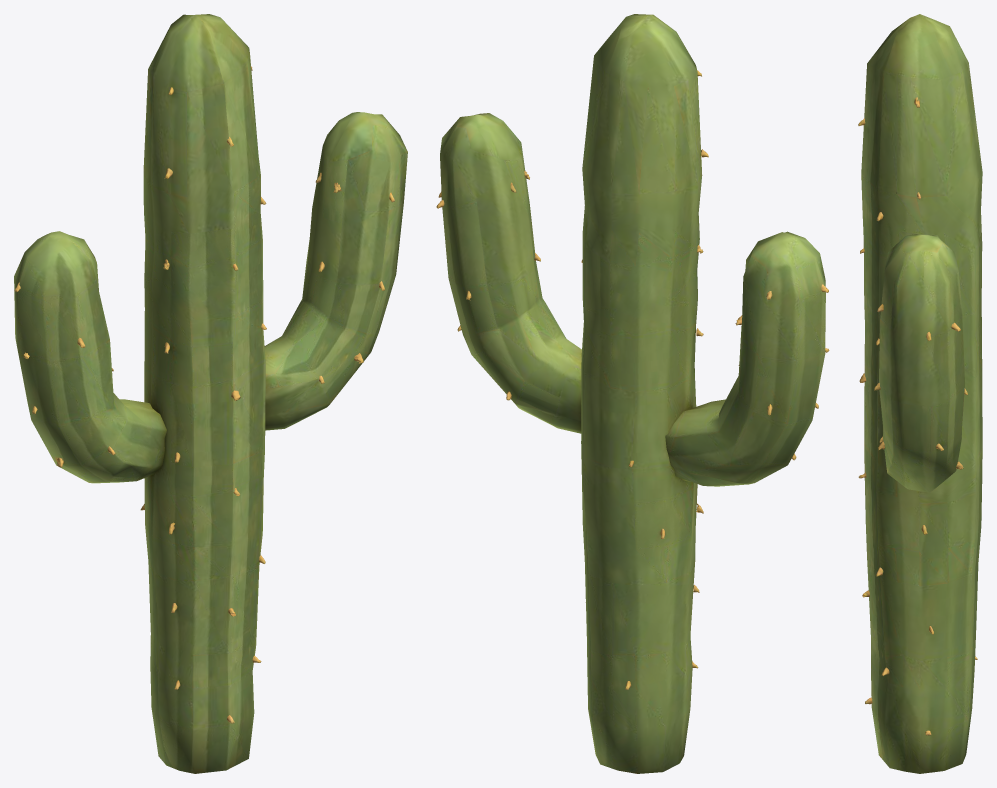
The model's file is cactus_a.glb.
3 renders of one model, left to right at view 1: azimuth 30°, elevation 25°; view 2: azimuth 150°, elevation 25°; view 3: azimuth 270°, elevation 25°, orthographic.
Parts seen in each view (by area): view 1: geometry_0; view 2: geometry_0; view 3: geometry_0.
Boxes of the visible parts, x1,y1,x2,y2 form: geometry_0: (14, 14, 407, 773); geometry_0: (436, 14, 829, 773); geometry_0: (858, 14, 982, 773).
Bounding box in the file's own units: 0.5166 × 0.9507 × 0.145.
1 material, 1 textured.
